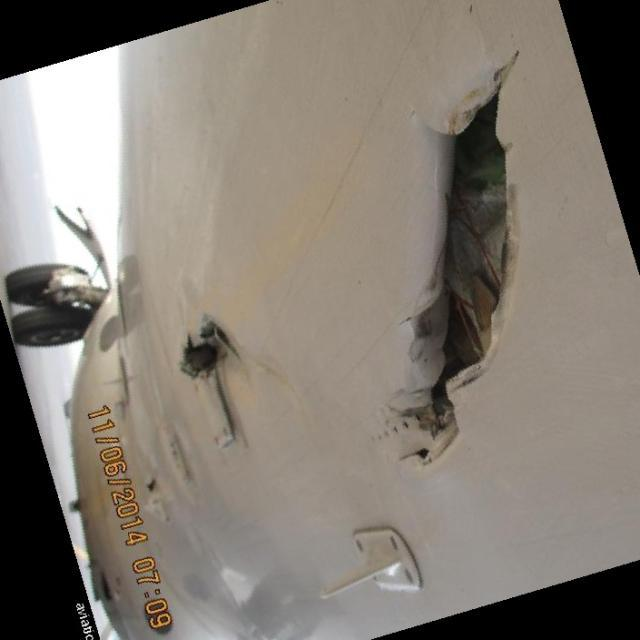crack: (363, 48, 535, 474)
